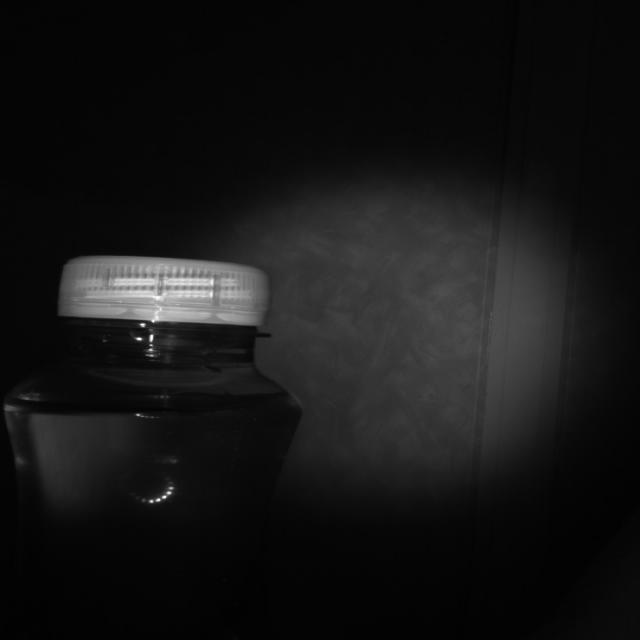Good: (58, 256, 268, 331)
